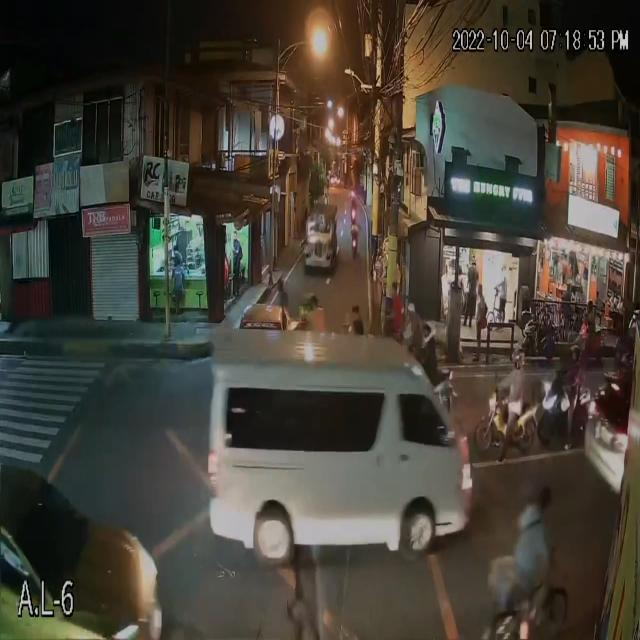Full-Faced: (508, 341, 526, 372)
Half-Faced: (568, 342, 584, 367)
